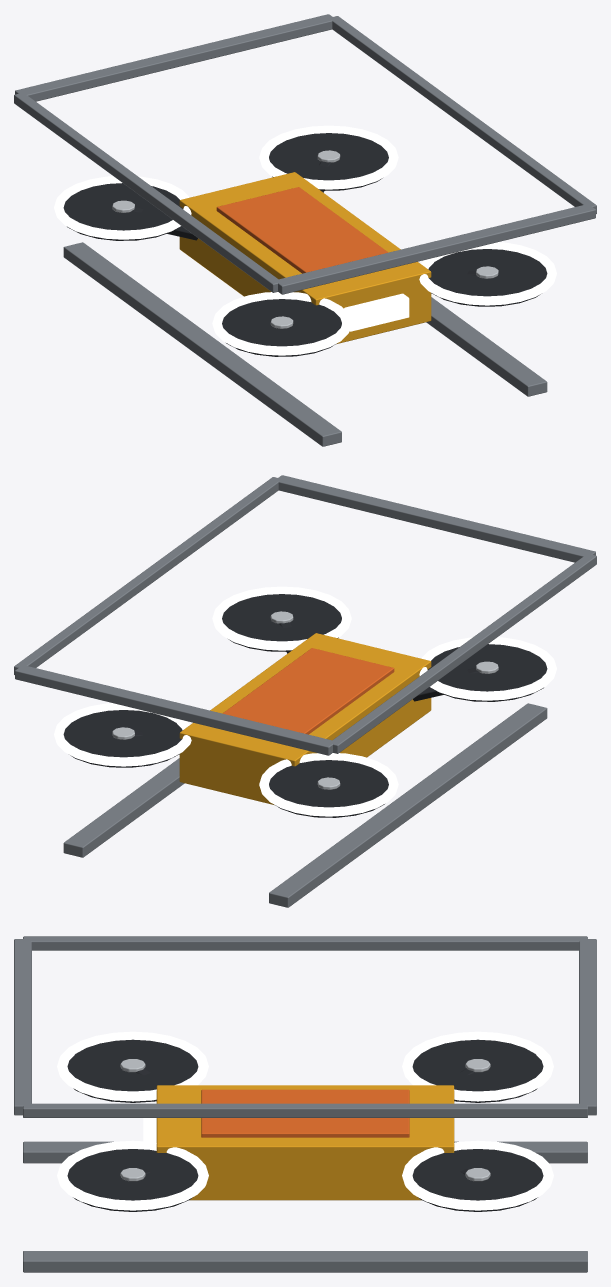
File: bastion_utility_drone.fbx
3 views of the same model, one above another, from view 1: azimuth 30°, elevation 25°; view 2: azimuth 150°, elevation 25°; view 3: azimuth 270°, elevation 25° (orthographic). The views are drawn at different scales.
Parts seen in each view (by area): view 1: Utility_Drone; view 2: Utility_Drone; view 3: Utility_Drone.
Part boxes in pixels (x1,y1,x2,y2): Utility_Drone: (14, 14, 596, 446); Utility_Drone: (14, 475, 596, 907); Utility_Drone: (14, 936, 596, 1272).
Size of the model in its own units: 45.5 by 23.35 by 64.68.
